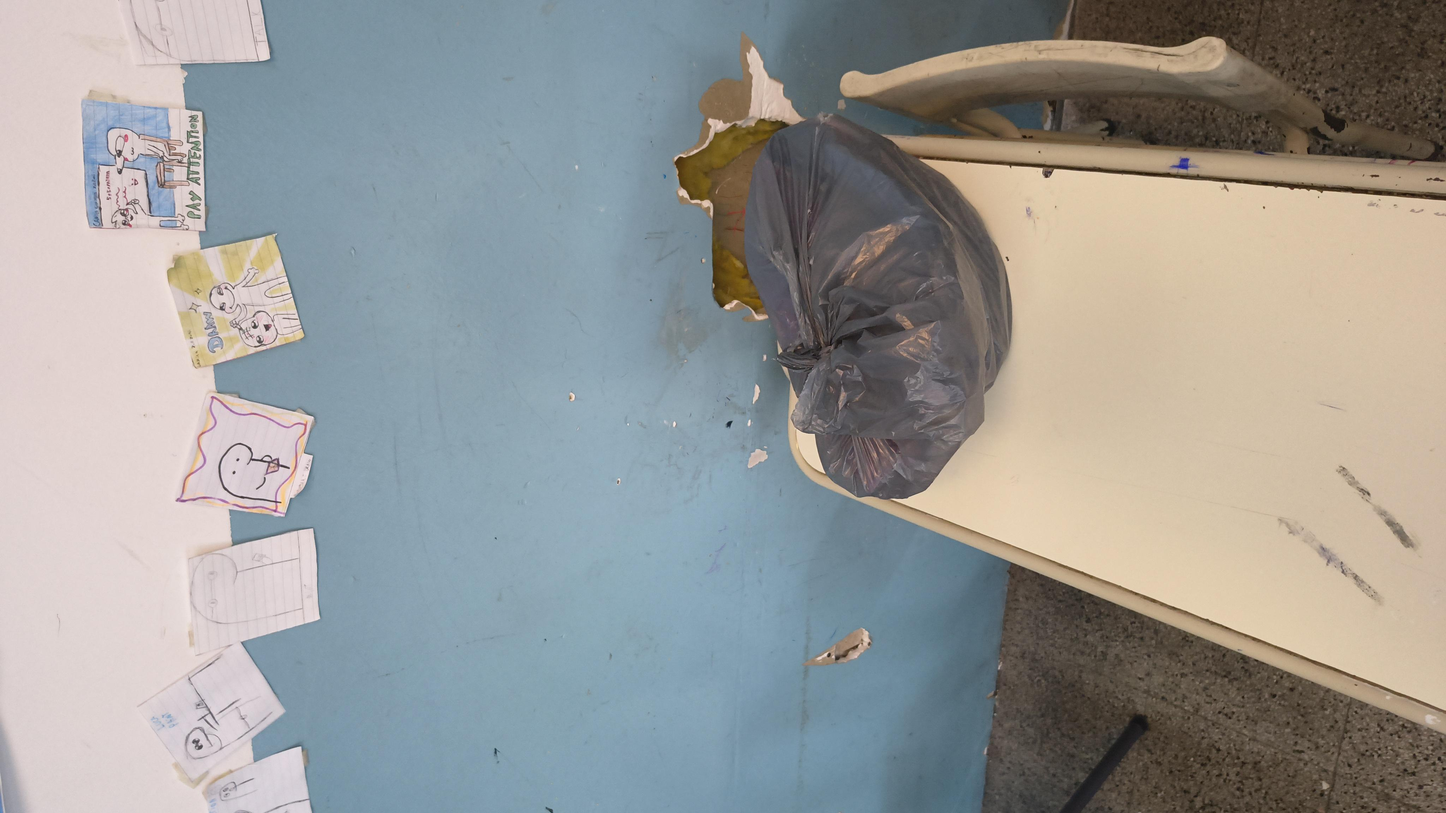Garbage: (483, 379, 1312, 590)
